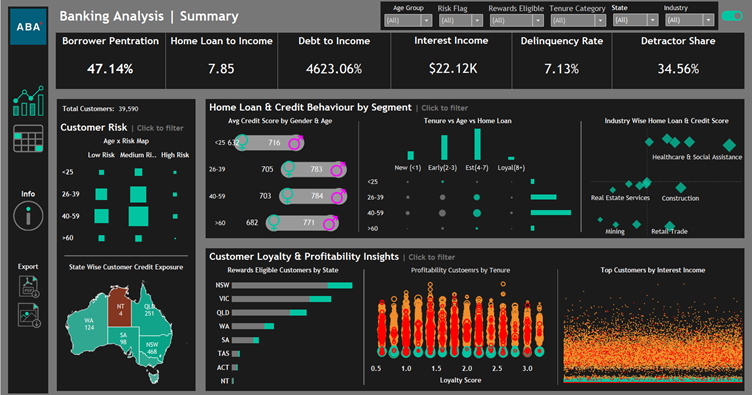

What the dashboard file says about the page in this screenshot:
{"tool":"tableau","page":{"name":"Banking | Summary","canvas":[1400,800],"ordinal":1},"visuals":[{"type":"filter","title":"Gender x Home Loan","param":"[federated.1jprkj914pp6g513rwwgj11i5ipw].[none:Calculation_729864671821111303:nk","box":[757,6,109,55]},{"type":"filter","title":"Tenure x Age x Home Loan","param":"[federated.1jprkj914pp6g513rwwgj11i5ipw].[none:Calculation_360006554311012355:nk","box":[866,6,101,55]},{"type":"filter","title":"Rewards Eligible","param":"[federated.1jprkj914pp6g513rwwgj11i5ipw].[none:Calculation_886364761072611329:nk","box":[967,6,121,55]},{"type":"filter","title":"Tenure x Home Loan","param":"[federated.1jprkj914pp6g513rwwgj11i5ipw].[none:Calculation_729864671812087808:nk","box":[1088,6,124,55]},{"type":"filter","title":"States x Credit Score","param":"[federated.1jprkj914pp6g513rwwgj11i5ipw].[none:State:nk]","box":[1212,6,104,55]},{"type":"text","box":[110,10,732,48]},{"type":"image","param":"Image/Dashboard Logo.jpg","box":[15,15,80,80]},{"type":"text","box":[110,67,218,32]},{"type":"blank","box":[328,67,1,112]},{"type":"text","box":[329,67,222,32]},{"type":"blank","box":[551,67,1,112]},{"type":"text","box":[552,67,224,32]},{"type":"blank","box":[776,67,1,112]},{"type":"text","box":[777,67,240,30.3]},{"type":"blank","box":[1017,67,1,112]},{"type":"text","box":[1018,67,198,32]},{"type":"blank","box":[1216,67,1,112]},{"type":"blank","box":[15,95,80,60]},{"type":"worksheet","title":"Interest Income KPI","mark":"Automatic","box":[777,97.3,240,81.7]},{"type":"worksheet","title":"Borrower Penetration KPI","mark":"Automatic","box":[110,99,218,80]},{"type":"worksheet","title":"LTI KPI","mark":"Automatic","box":[329,99,222,80]},{"type":"worksheet","title":"DTI KPI","mark":"Automatic","box":[552,99,224,80]},{"type":"worksheet","title":"Delinquency KPI","mark":"Automatic","box":[1018,99,198,80]},{"type":"dashboard-object","box":[25,165,60,75]},{"type":"blank","box":[388,199,20,581]},{"type":"text","box":[116,203,115,32]},{"type":"worksheet","title":"No. of Customers","mark":"Automatic","box":[231,203,119,32]},{"type":"text","box":[408,231,297,24]},{"type":"blank","box":[705,231,15,245]},{"type":"text","box":[720,231,419,24]},{"type":"blank","box":[1139,231,32,245]},{"type":"text","box":[112,239,276,32]},{"type":"dashboard-object","box":[25,240,60,75]},{"type":"worksheet","title":"Gender x Home Loan","mark":"Automatic","rows":["Calculation_729864671821111303"],"cols":["CreditScore","CreditScore"],"box":[408,255,297,221]},{"type":"worksheet","title":"Tenure x Home Loan","mark":"Automatic","rows":["HasHome Loan"],"cols":["Calculation_729864671812087808"],"box":[720,255,419,65]},{"type":"text","box":[112,271,276,24]},{"type":"worksheet","title":"High Risk by Age","mark":"Automatic","rows":["Calculation_729864671821111303"],"cols":["Calculation_360006554311012355"],"box":[112,295,276,207]},{"type":"blank","box":[25,315,60,60]},{"type":"worksheet","title":"Tenure x Age x Home Loan","mark":"Circle","rows":["Calculation_729864671821111303"],"cols":["Calculation_729864671812087808"],"box":[720,320,335,156]},{"type":"worksheet","title":"Age x Home Loan","mark":"Automatic","rows":["Calculation_729864671821111303"],"cols":["HasHome Loan"],"box":[1055,320,84,156]},{"type":"text","box":[25,375,60,26]},{"type":"dashboard-object","box":[25,401,60,60]},{"type":"blank","box":[25,461,60,60]},{"type":"blank","box":[112,502,276,20]},{"type":"text","box":[25,521,60,24]},{"type":"text","box":[112,522,276,24]},{"type":"text","box":[408,528,308,24]},{"type":"blank","box":[716,528,14,250]},{"type":"text","box":[730,528,371,24]},{"type":"blank","box":[1101,528,15,250]},{"type":"dashboard-object","box":[25,545,60,54]},{"type":"worksheet","title":"States x Credit Score","mark":"Multipolygon","box":[112,546,276,234]},{"type":"worksheet","title":"Rewards Eligible","mark":"Automatic","rows":["State"],"cols":["CustomerId"],"box":[408,552,308,226]},{"type":"worksheet","title":"Loyalty Score","mark":"Automatic","rows":["Calculation_1588081878893404160"],"cols":["Calculation_1586111553988878337"],"box":[730,552,371,226]},{"type":"dashboard-object","box":[25,599,60,60]}]}

Visuals, with their boxes on the page's 1400x800 design canvas (x1, y1, x2, y2). These are canvas units, not pixel positions in the 752x395 screenshot, which may show the page scaled, cropped or inside an application window:
"Gender x Home Loan" filter: locate(757, 6, 866, 61)
"Tenure x Age x Home Loan" filter: locate(866, 6, 967, 61)
"Rewards Eligible" filter: locate(967, 6, 1088, 61)
"Tenure x Home Loan" filter: locate(1088, 6, 1212, 61)
"States x Credit Score" filter: locate(1212, 6, 1316, 61)
text: locate(110, 10, 842, 58)
image: locate(15, 15, 95, 95)
text: locate(110, 67, 328, 99)
blank: locate(328, 67, 329, 179)
text: locate(329, 67, 551, 99)
blank: locate(551, 67, 552, 179)
text: locate(552, 67, 776, 99)
blank: locate(776, 67, 777, 179)
text: locate(777, 67, 1017, 97)
blank: locate(1017, 67, 1018, 179)
text: locate(1018, 67, 1216, 99)
blank: locate(1216, 67, 1217, 179)
blank: locate(15, 95, 95, 155)
"Interest Income KPI" worksheet: locate(777, 97, 1017, 179)
"Borrower Penetration KPI" worksheet: locate(110, 99, 328, 179)
"LTI KPI" worksheet: locate(329, 99, 551, 179)
"DTI KPI" worksheet: locate(552, 99, 776, 179)
"Delinquency KPI" worksheet: locate(1018, 99, 1216, 179)
dashboard-object: locate(25, 165, 85, 240)
blank: locate(388, 199, 408, 780)
text: locate(116, 203, 231, 235)
"No. of Customers" worksheet: locate(231, 203, 350, 235)
text: locate(408, 231, 705, 255)
blank: locate(705, 231, 720, 476)
text: locate(720, 231, 1139, 255)
blank: locate(1139, 231, 1171, 476)
text: locate(112, 239, 388, 271)
dashboard-object: locate(25, 240, 85, 315)
"Gender x Home Loan" worksheet: locate(408, 255, 705, 476)
"Tenure x Home Loan" worksheet: locate(720, 255, 1139, 320)
text: locate(112, 271, 388, 295)
"High Risk by Age" worksheet: locate(112, 295, 388, 502)
blank: locate(25, 315, 85, 375)
"Tenure x Age x Home Loan" worksheet (Circle marks): locate(720, 320, 1055, 476)
"Age x Home Loan" worksheet: locate(1055, 320, 1139, 476)
text: locate(25, 375, 85, 401)
dashboard-object: locate(25, 401, 85, 461)
blank: locate(25, 461, 85, 521)
blank: locate(112, 502, 388, 522)
text: locate(25, 521, 85, 545)
text: locate(112, 522, 388, 546)
text: locate(408, 528, 716, 552)
blank: locate(716, 528, 730, 778)
text: locate(730, 528, 1101, 552)
blank: locate(1101, 528, 1116, 778)
dashboard-object: locate(25, 545, 85, 599)
"States x Credit Score" worksheet (Multipolygon marks): locate(112, 546, 388, 780)
"Rewards Eligible" worksheet: locate(408, 552, 716, 778)
"Loyalty Score" worksheet: locate(730, 552, 1101, 778)
dashboard-object: locate(25, 599, 85, 659)
